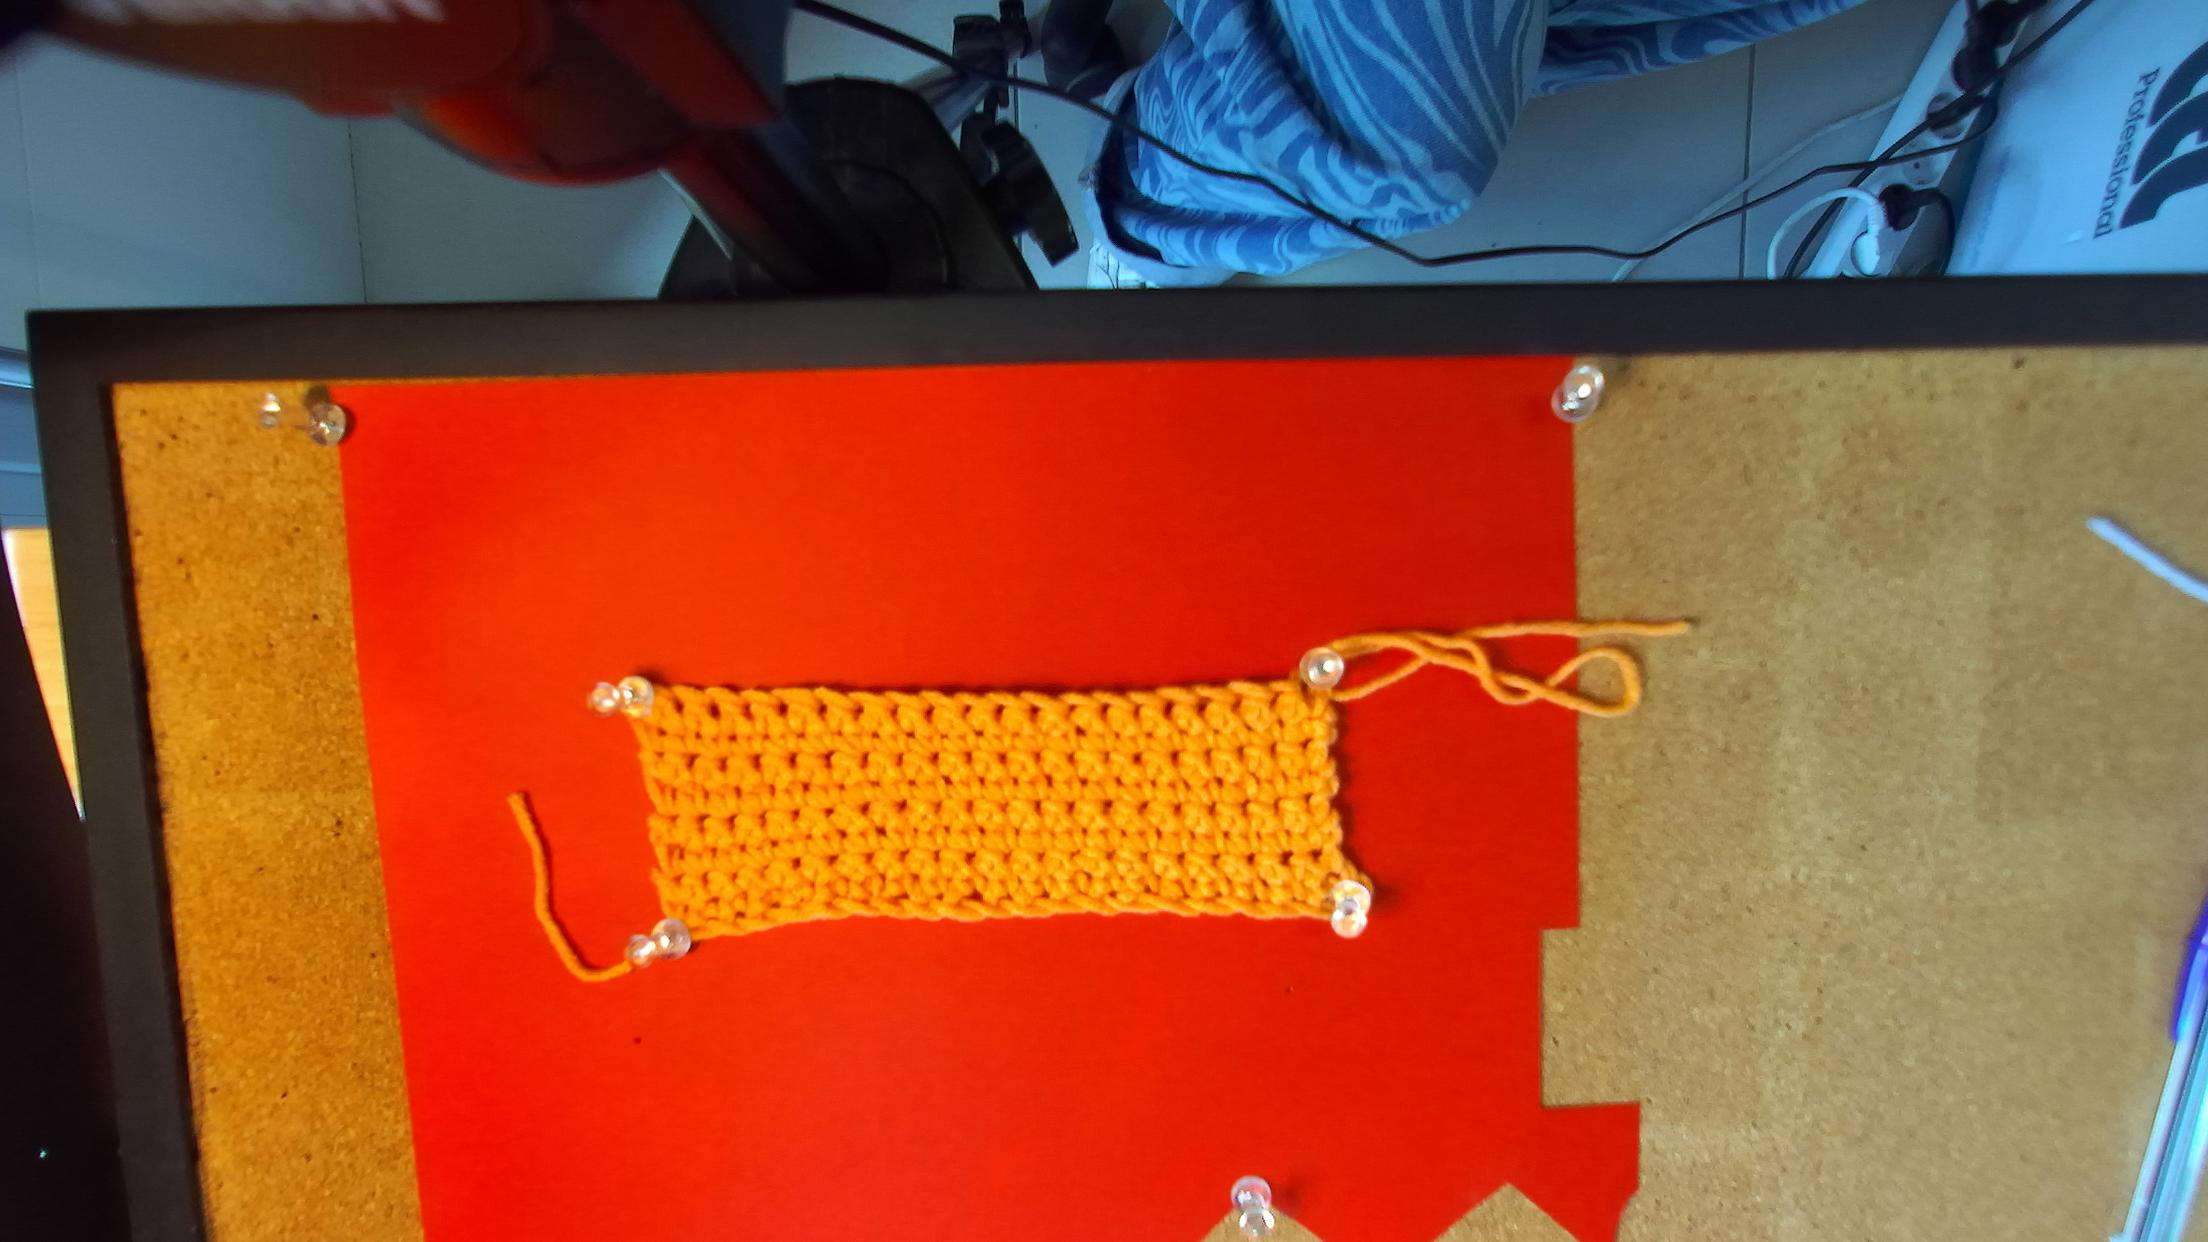hole: (1195, 696, 1213, 717), (707, 699, 722, 720), (740, 701, 755, 722), (922, 702, 937, 723), (1269, 692, 1284, 713), (669, 695, 684, 714), (1162, 699, 1175, 720), (1231, 693, 1245, 713), (778, 699, 790, 719), (816, 701, 828, 719), (852, 704, 864, 722), (1301, 685, 1312, 705), (1030, 704, 1042, 720), (995, 704, 1005, 722), (1065, 705, 1078, 719), (887, 704, 899, 719), (1101, 702, 1112, 719), (963, 704, 974, 717), (1134, 704, 1143, 719)
swatch: (601, 673, 1372, 960)
